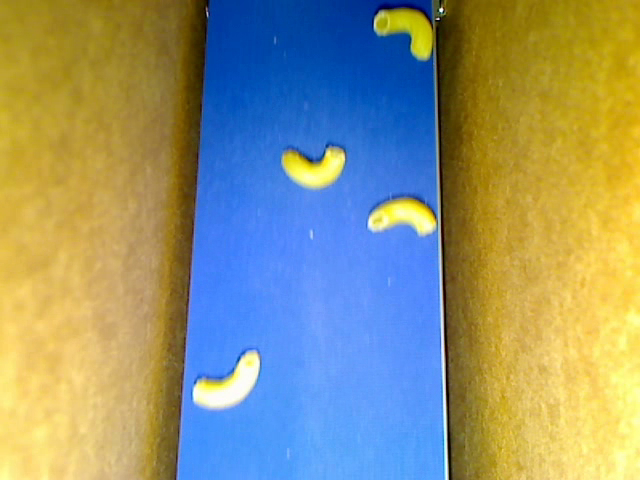elbow: (192, 349, 262, 411), (373, 8, 433, 59), (281, 145, 346, 191), (367, 196, 436, 237)
